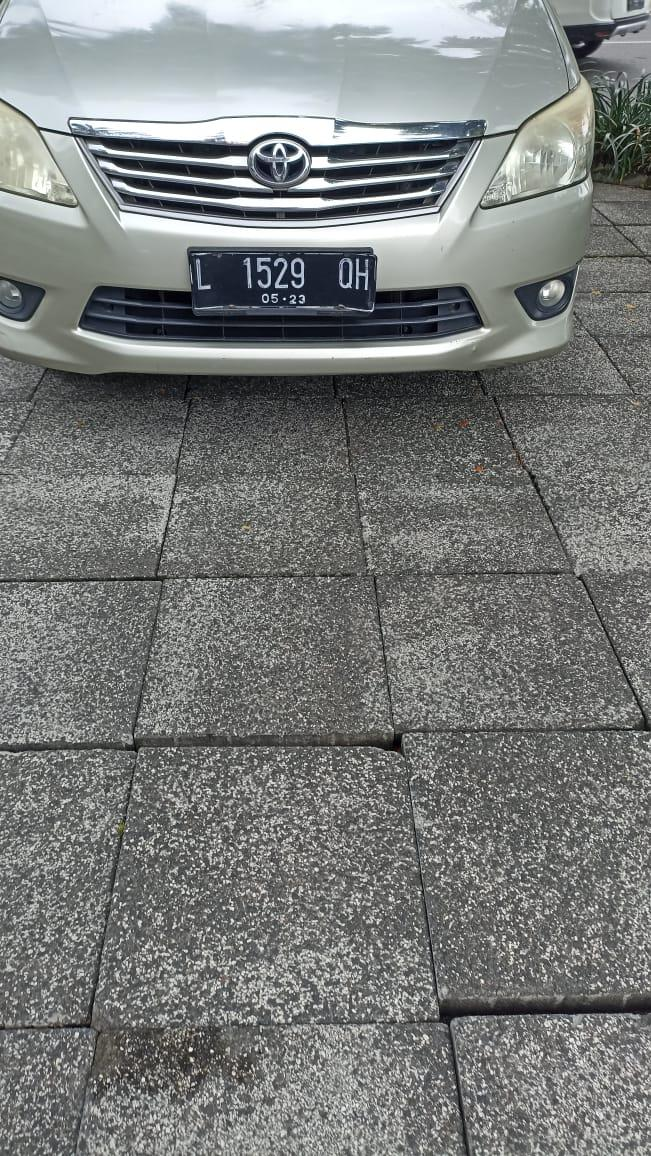plat: (191, 251, 377, 316)
